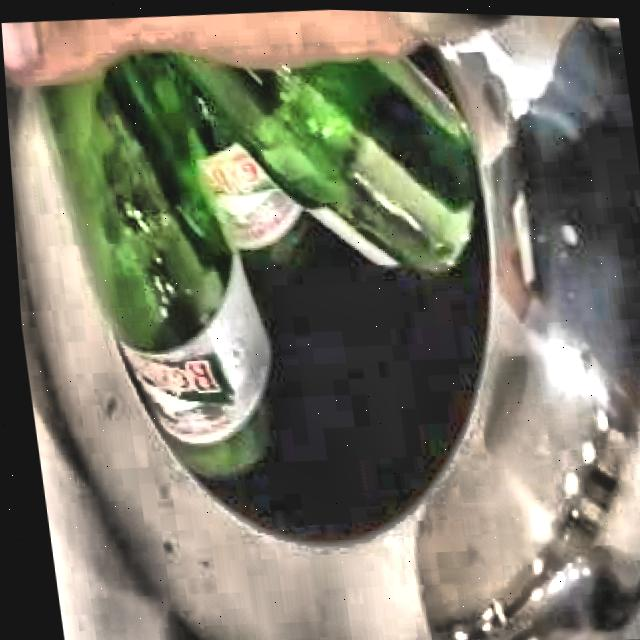glass: (40, 48, 476, 476)
